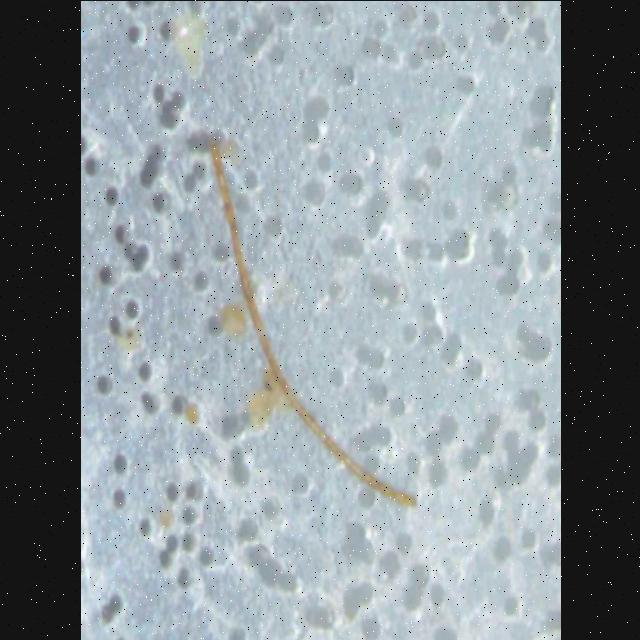Fibre: (205, 136, 417, 510)
